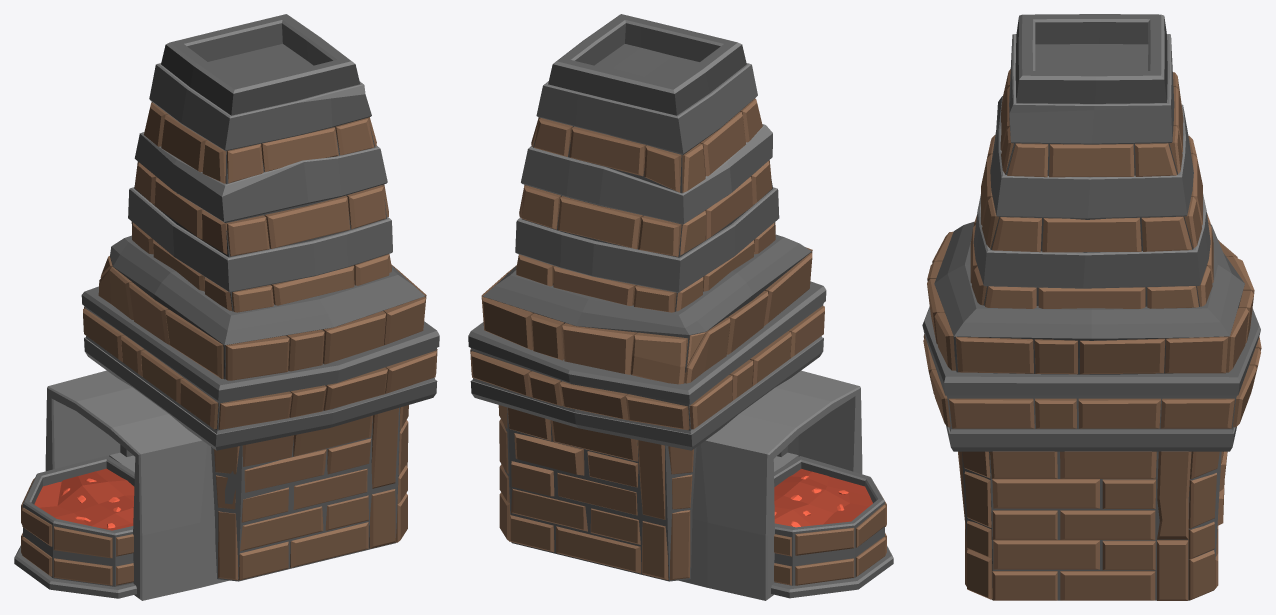
The model's file is Forge(Color Variation).fbx.
3 views of the same model, side by side, from view 1: azimuth 30°, elevation 25°; view 2: azimuth 150°, elevation 25°; view 3: azimuth 270°, elevation 25° (orthographic). The views are drawn at different scales.
Visible parts, largest first — view 1: Forge_01, Coal_ON; view 2: Forge_01, Coal_ON; view 3: Forge_01.
Part boxes in pixels (<box>): Forge_01: <box>14,14,439,600</box>; Coal_ON: <box>34,468,134,530</box>; Forge_01: <box>468,14,893,600</box>; Coal_ON: <box>774,469,872,526</box>; Forge_01: <box>922,14,1261,600</box>.
Bounding box in the file's own units: 337 × 445 × 269.
